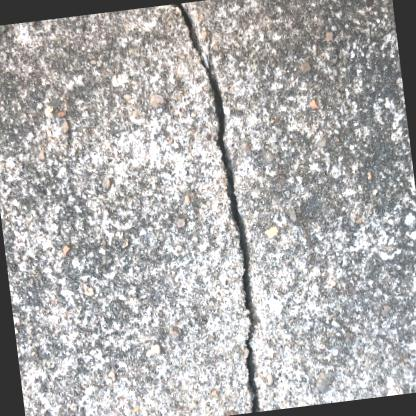crack: (170, 2, 260, 413)
